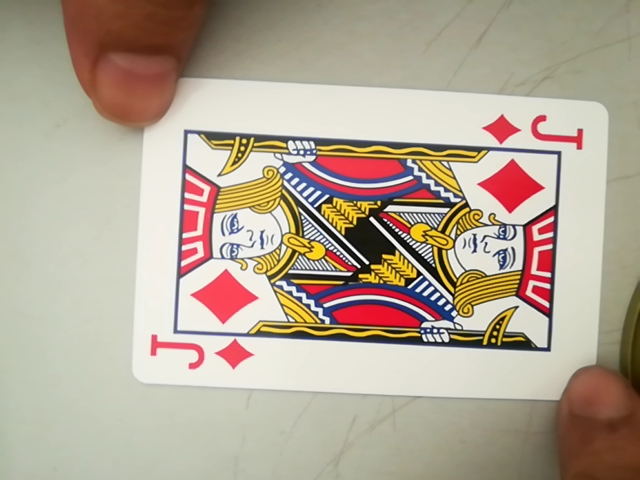fk j: (142, 333, 258, 379), (486, 110, 591, 153)
